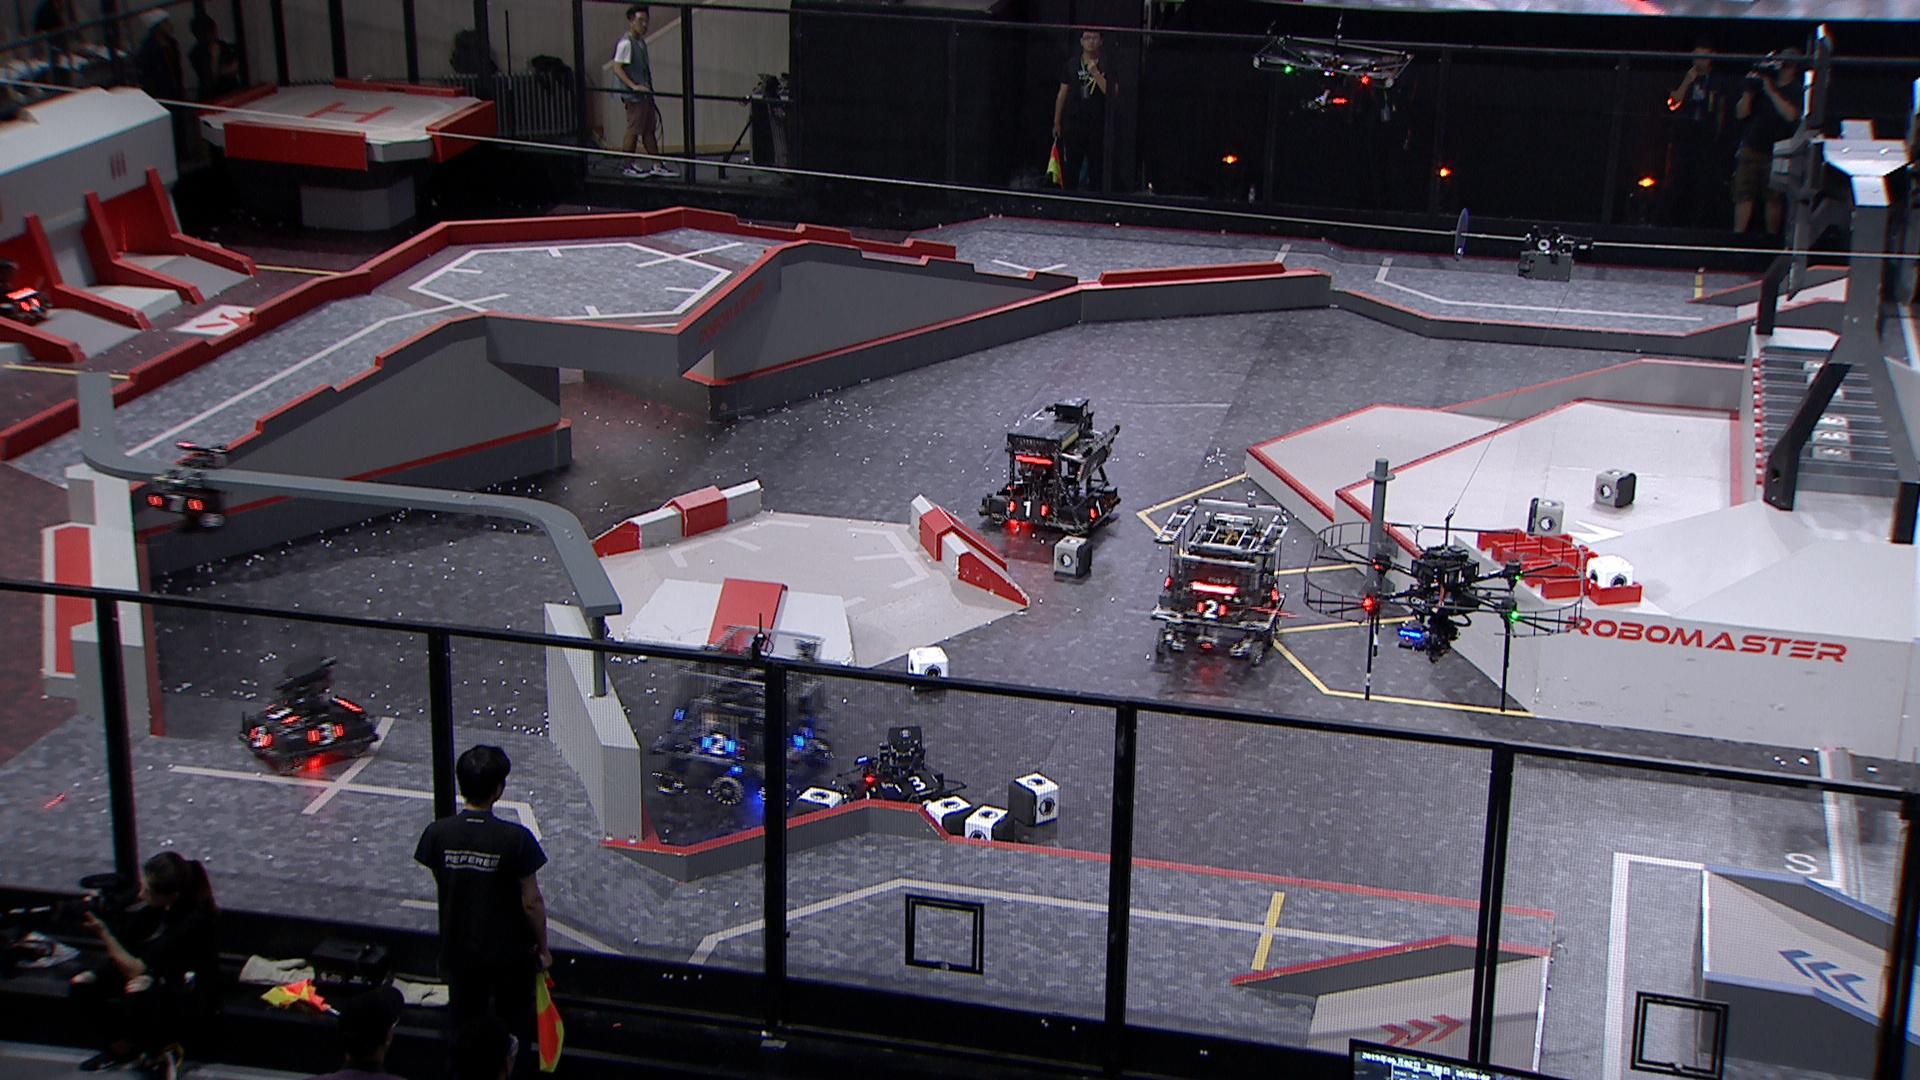armor: (144, 495, 200, 516), (305, 721, 340, 746), (1007, 498, 1044, 520), (702, 733, 735, 756), (1192, 597, 1226, 618), (897, 774, 936, 790), (264, 705, 299, 723), (793, 723, 816, 746), (248, 728, 269, 746), (20, 295, 40, 314), (1091, 498, 1106, 520), (1002, 476, 1025, 489), (1269, 582, 1280, 603)
car: (651, 626, 840, 811), (1150, 498, 1292, 665), (978, 396, 1120, 542), (233, 654, 381, 771), (851, 727, 957, 827)
watcher: (141, 442, 239, 541)
